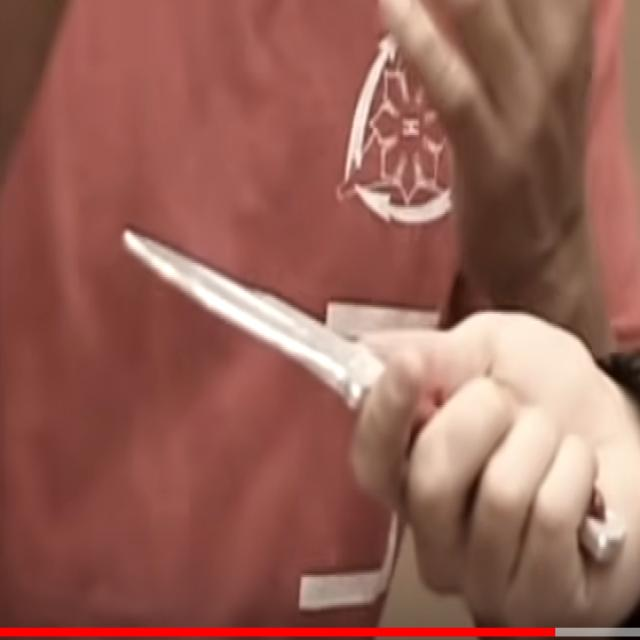knife: (113, 208, 392, 460)
